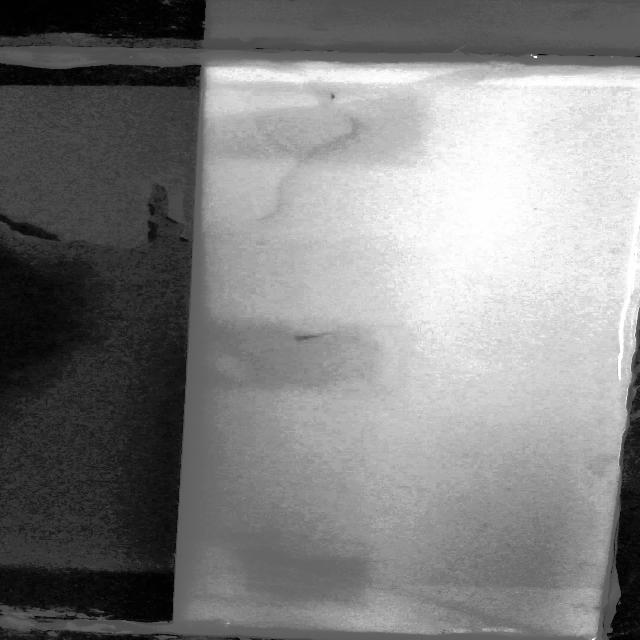shrimp: (288, 330, 332, 345), (324, 91, 344, 103)
